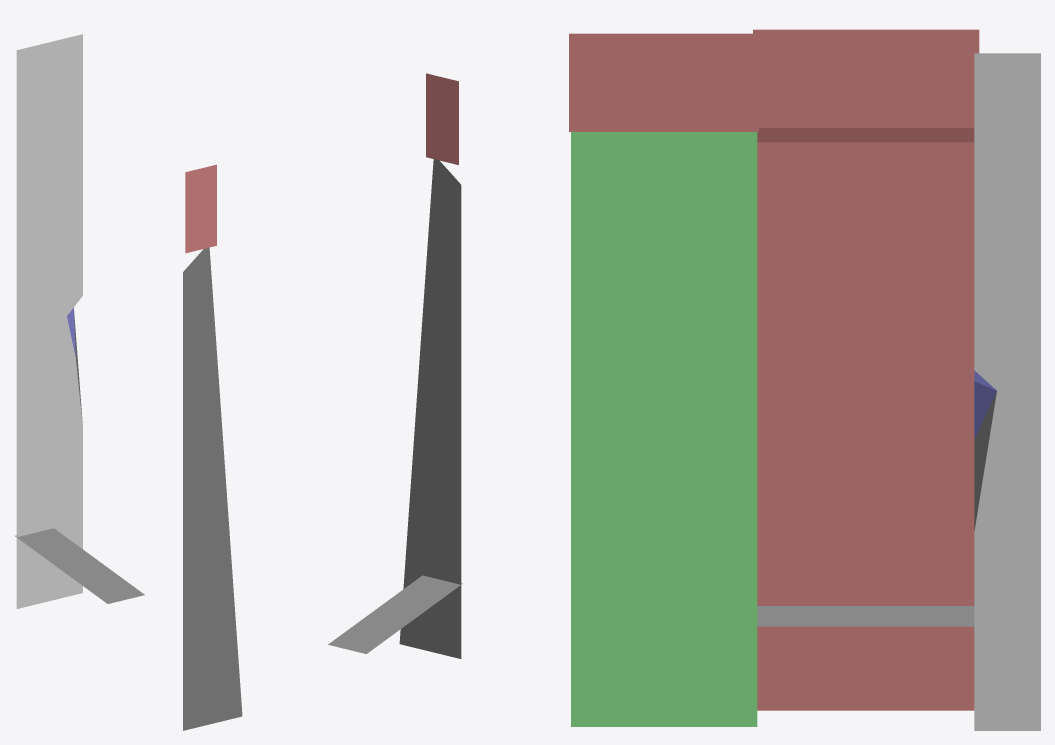
The model's file is SSQ_BRoom01_Wall05.gltf.
3 renders of one model, left to right at view 1: azimuth 30°, elevation 25°; view 2: azimuth 150°, elevation 25°; view 3: azimuth 270°, elevation 25°, orthographic. The views are drawn at different scales.
Parts seen in each view (by area): view 1: SSQ_BRoom01_Wall05; view 2: SSQ_BRoom01_Wall05; view 3: SSQ_BRoom01_Wall05.
Part boxes in pixels (box(x1,y1,x2,y2)): SSQ_BRoom01_Wall05: box(15, 34, 242, 730); SSQ_BRoom01_Wall05: box(328, 73, 462, 658); SSQ_BRoom01_Wall05: box(569, 29, 1040, 730).
Bounding box in the file's own units: 0.4807 × 3.86 × 2.43.
